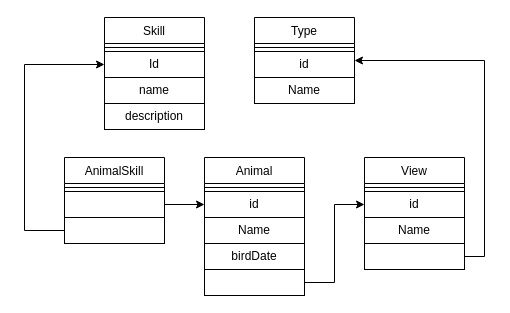
Some shapes in this 510 by 313 pixel diagram are drawn without their labels. The shapes that lost their labels are listed below. From the top down, each one's centre as x and y in pixels, then its label:
At (114,204): "animal_id".
At (114,230): "skill_id".
At (414,256): "group_id".
At (254,282): "view_id".
